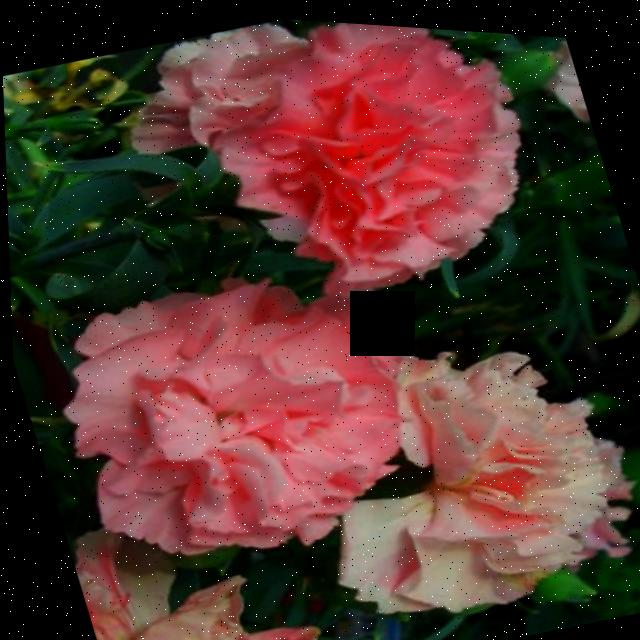carnation: (25, 219, 456, 584), (146, 8, 548, 326), (268, 309, 640, 640)
